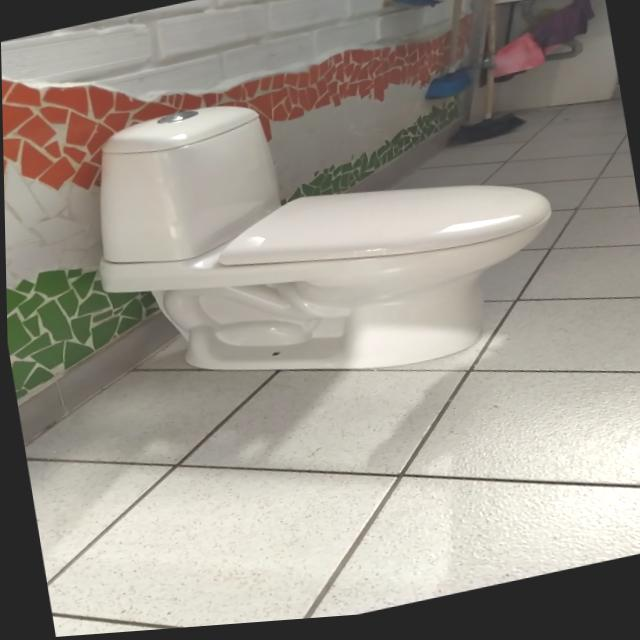toilet: (72, 43, 571, 431)
